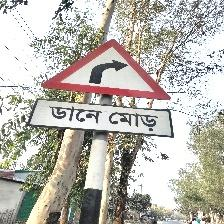Right-turn: (29, 38, 174, 138)
